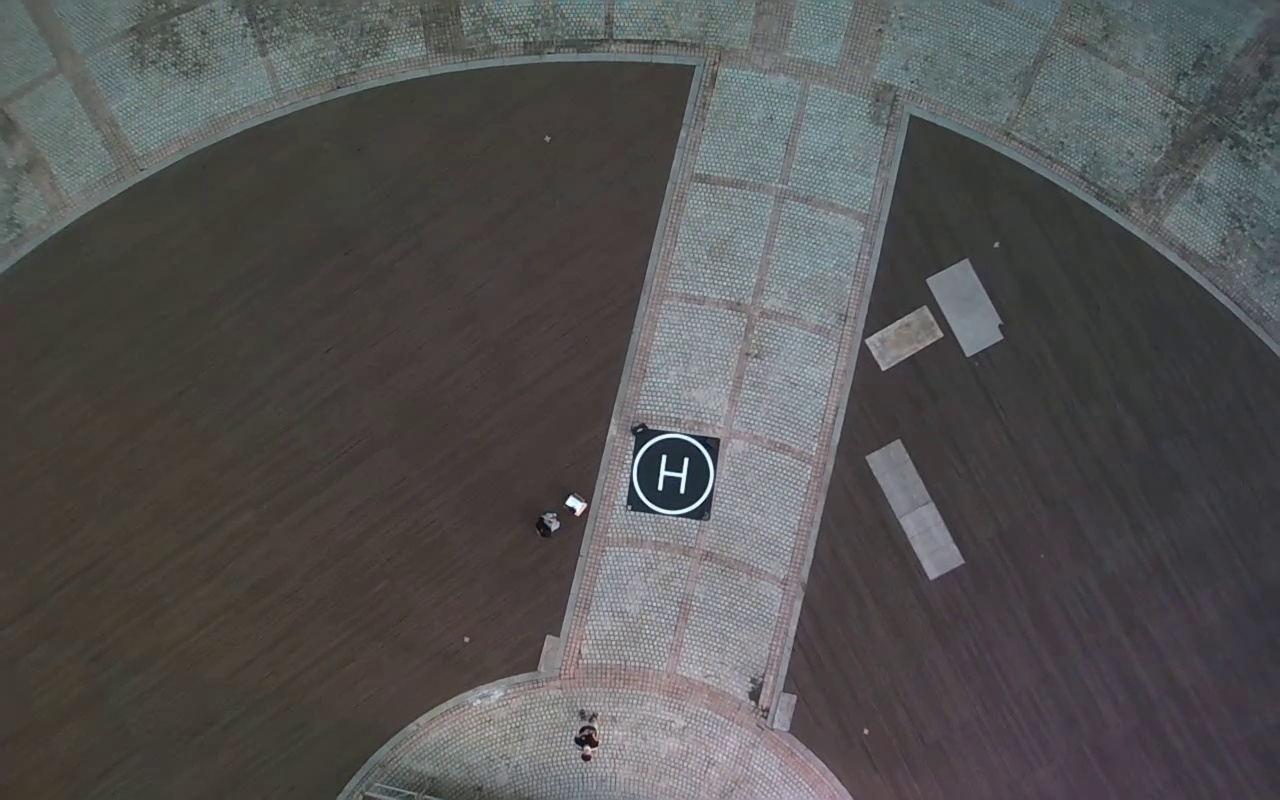H: (655, 453, 689, 495)
heliport: (631, 432, 716, 513)
